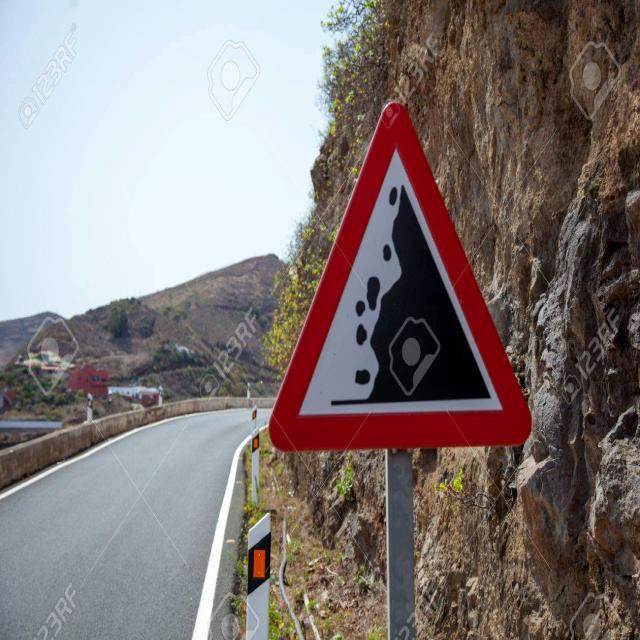Traffic sign: (264, 95, 534, 459)
